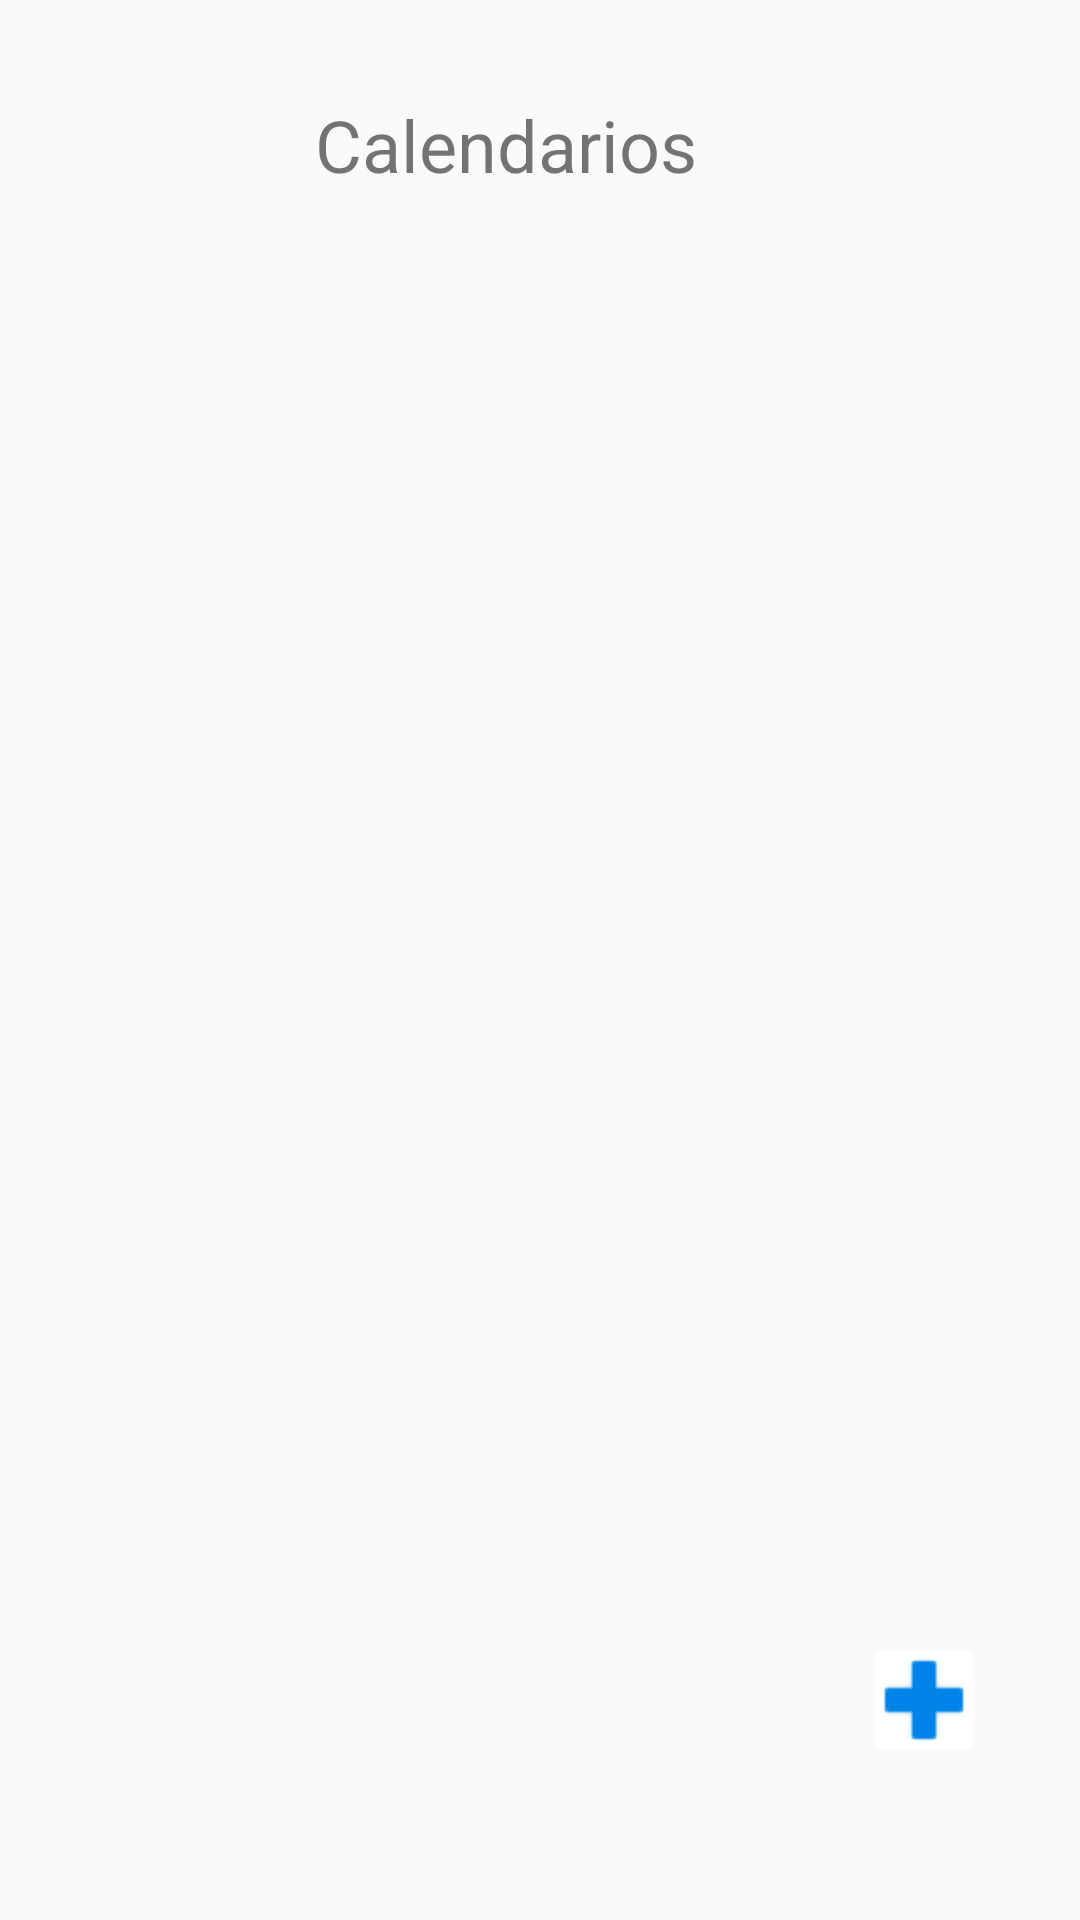

Where to tap for icons on this 1080 x 1920 app screen, as (x=x, y=y):
agregar boton: (x=924, y=1700)
